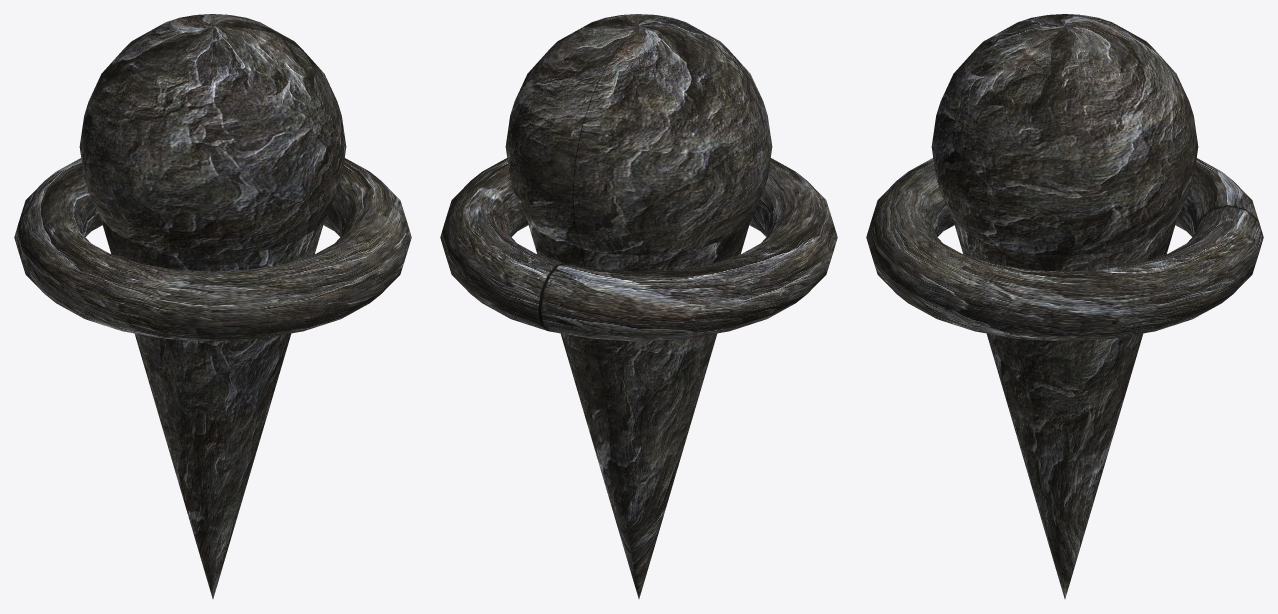
3 views of the same model, side by side, from view 1: azimuth 30°, elevation 25°; view 2: azimuth 150°, elevation 25°; view 3: azimuth 270°, elevation 25° (orthographic).
Visible parts, largest first — view 1: Point; view 2: Point; view 3: Point.
Part boxes in pixels (x1,y1,x2,y2): Point: (14, 14, 411, 598); Point: (440, 14, 837, 598); Point: (866, 14, 1263, 598).
Size of the model in its own units: 0.3029 by 0.4826 by 0.3029.
1 material, 1 textured.
